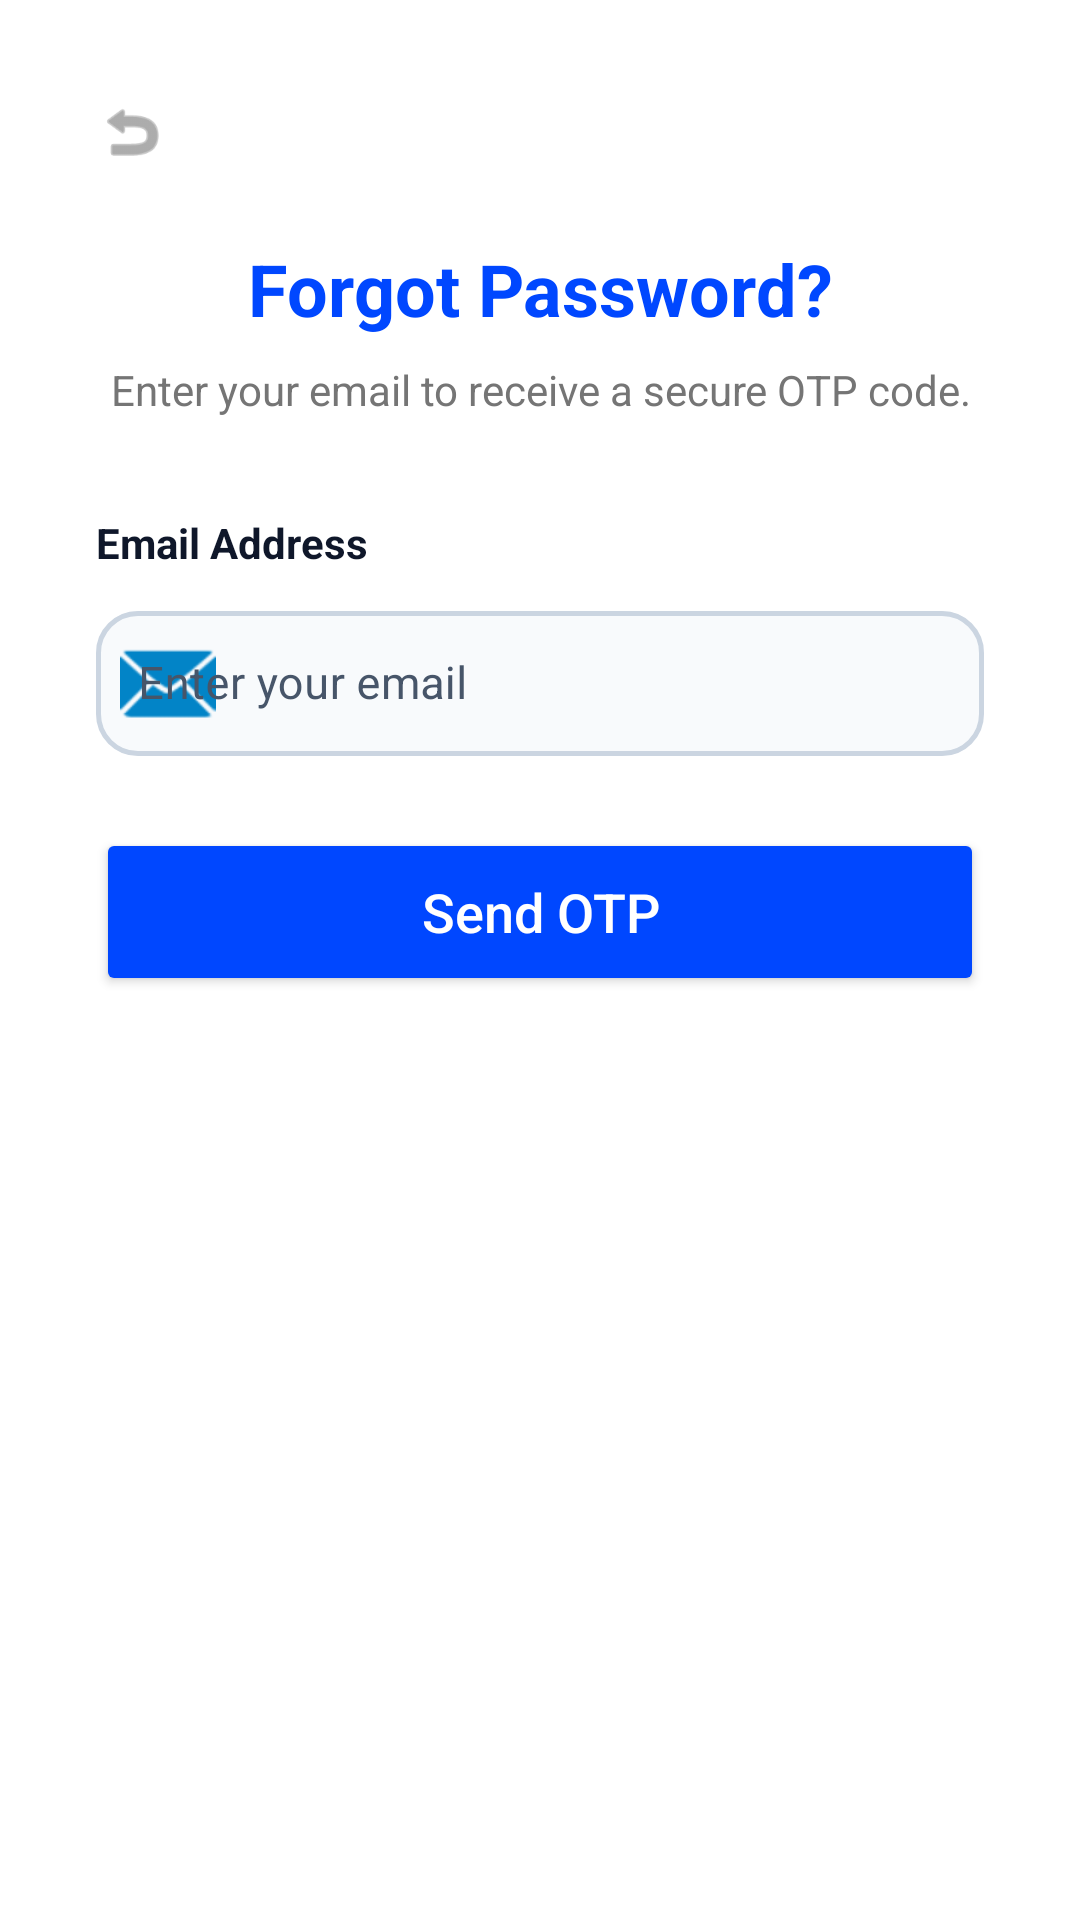

Icons on this 1080×1920 Android screen, each with the point to tap as point (x, y):
revert: point (133, 132)
